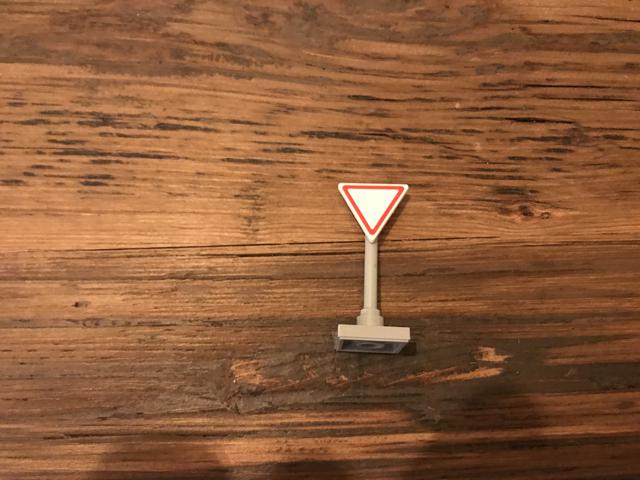vorfahrt gewähren: (335, 180, 415, 242)
